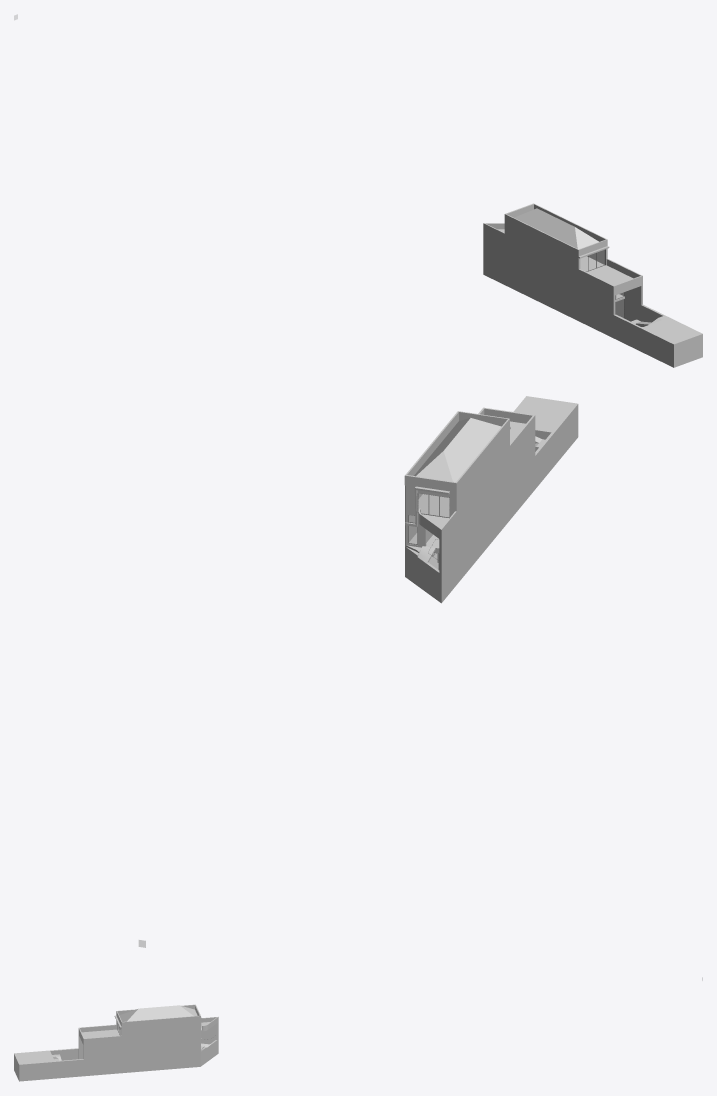
The model's file is projeto.glb.
3 views of the same model, one above another, from view 1: azimuth 30°, elevation 25°; view 2: azimuth 150°, elevation 25°; view 3: azimuth 270°, elevation 25° (orthographic). The views are drawn at different scales.
Parts seen in each view (by area): view 1: PAREDES, PAREDES.002, PAREDES.001, PISOS, PISOS.002, PISOS.001; view 2: PAREDES.002, PAREDES, PAREDES.001, PISOS.002, PISOS, PISOS.001; view 3: PAREDES, PAREDES.002, PAREDES.001, PISOS, PISOS.002, PISOS.001.
Part boxes in pixels (x1,y1,x2,y2): PAREDES: (483, 253, 670, 351); PAREDES.002: (483, 203, 642, 295); PAREDES.001: (483, 231, 642, 316); PISOS: (616, 314, 702, 367); PISOS.002: (498, 208, 609, 258); PISOS.001: (580, 256, 632, 301); PAREDES.002: (404, 407, 535, 540); PAREDES: (405, 428, 555, 603); PAREDES.001: (405, 424, 535, 571); PISOS.002: (414, 418, 510, 527); PISOS: (428, 396, 578, 569); PISOS.001: (405, 422, 525, 563); PAREDES: (48, 1038, 218, 1078); PAREDES.002: (78, 1004, 218, 1044); PAREDES.001: (78, 1022, 218, 1060); PISOS: (14, 1050, 61, 1081); PISOS.002: (114, 1005, 209, 1031); PISOS.001: (82, 1029, 210, 1051).
Bounding box in the file's own units: 32.7 × 11.85 × 129.
Materials: 2 (1 with a texture image).
